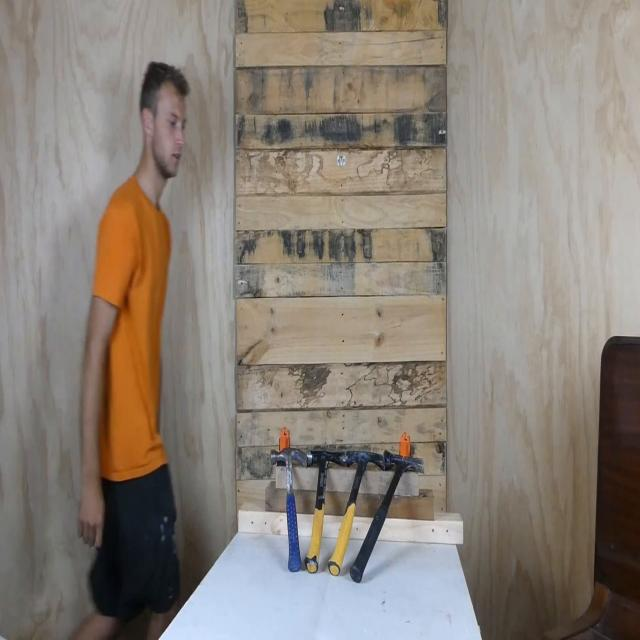hammer: (346, 448, 428, 591), (327, 441, 388, 586), (303, 435, 347, 588), (268, 441, 312, 575)
